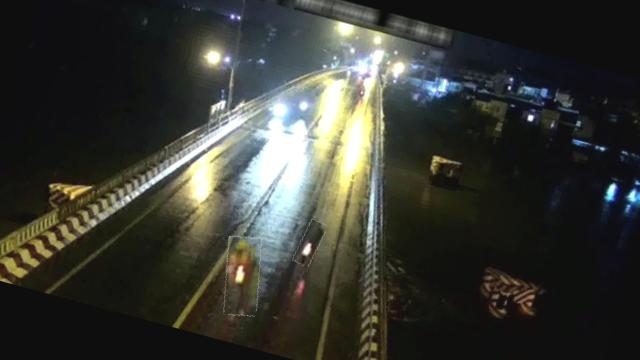Bike: (212, 232, 270, 320), (294, 218, 326, 268)
